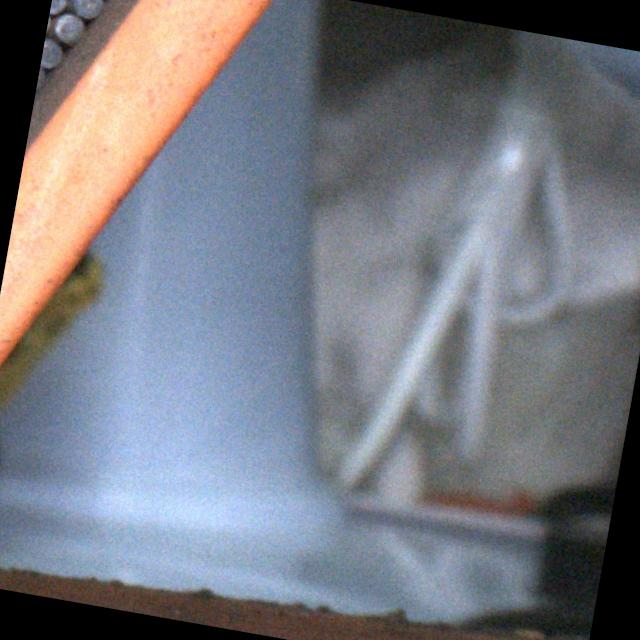tool: (50, 12, 84, 44), (40, 38, 64, 68), (69, 0, 103, 19), (36, 63, 46, 92), (49, 0, 68, 15)
